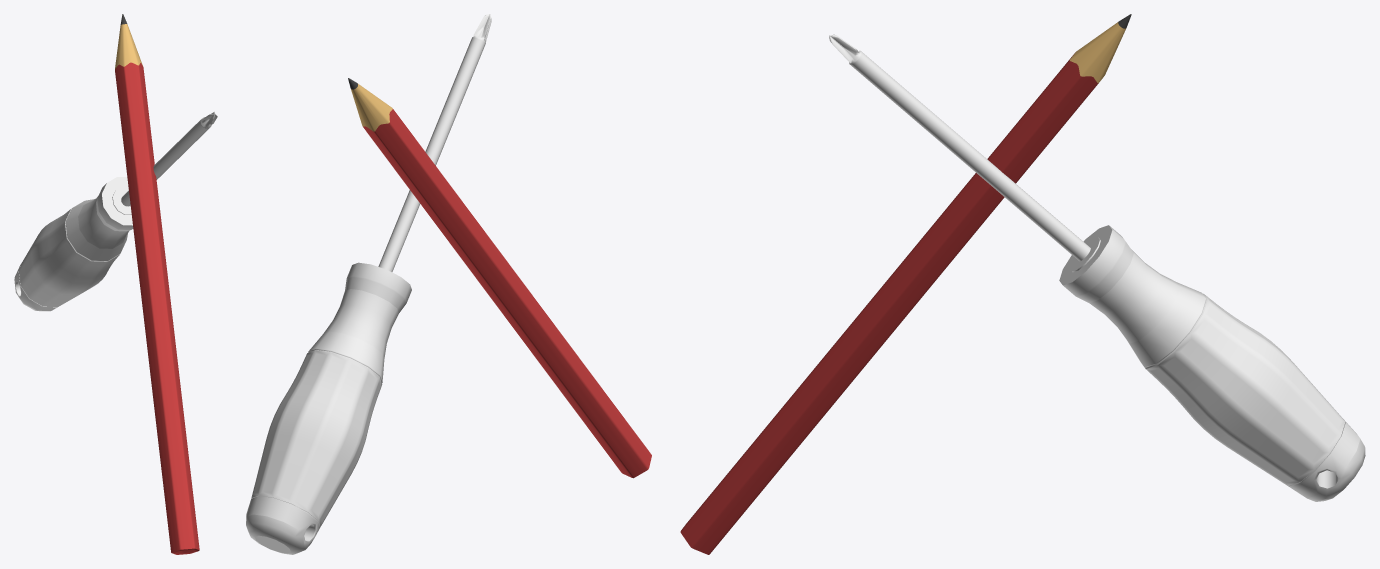
The model's file is launcherModel.glb.
3 views of the same model, side by side, from view 1: azimuth 30°, elevation 25°; view 2: azimuth 150°, elevation 25°; view 3: azimuth 270°, elevation 25° (orthographic). The views are drawn at different scales.
Visible parts, largest first — view 1: Cylinder8525, Schraubendreher; view 2: Schraubendreher, Cylinder8525; view 3: Schraubendreher, Cylinder8525.
Part boxes in pixels (x1,y1,x2,y2): Cylinder8525: (115,14,199,554); Schraubendreher: (14,111,217,311); Schraubendreher: (246,14,491,554); Cylinder8525: (348,78,651,478); Schraubendreher: (829,34,1365,501); Cylinder8525: (680,14,1131,554).
Bounding box in the file's own units: 1.26 × 4.1 × 4.26.
